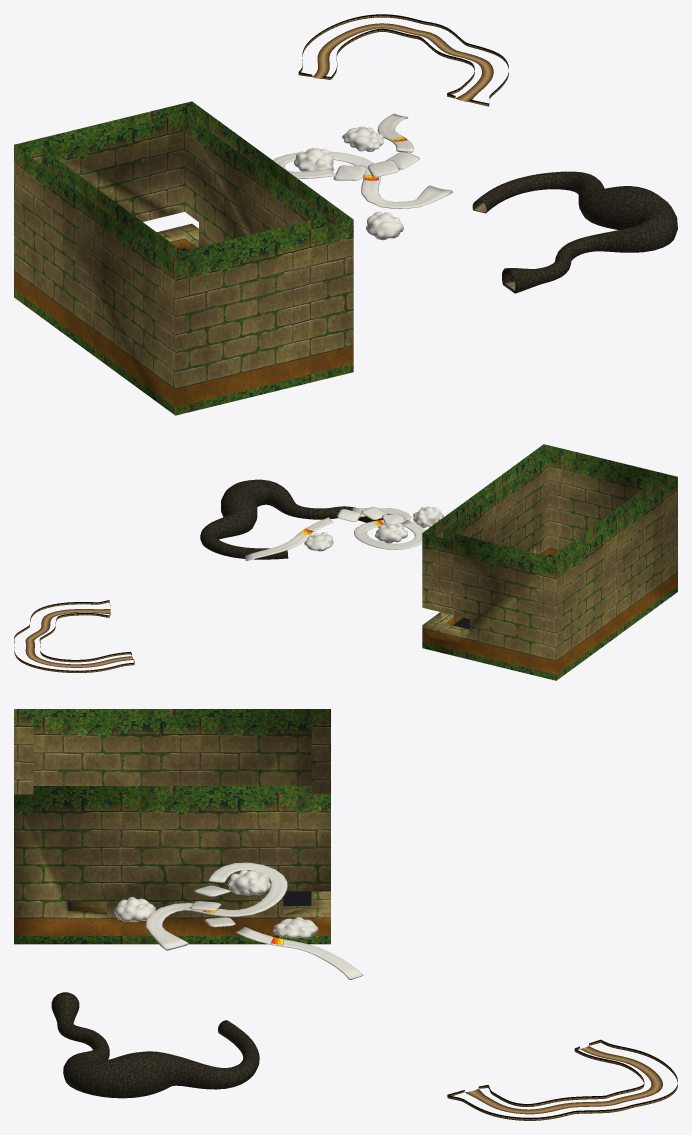
3 renders of one model, top to bottom at view 1: azimuth 30°, elevation 25°; view 2: azimuth 150°, elevation 25°; view 3: azimuth 270°, elevation 25°, orthographic. The views are drawn at different scales.
Visible parts, largest first — view 1: model-SKP--TempleWall, model-SKP--CaveWall, model-SKP--Clouds, model-SKP--ForestRoad, model-SKP--Fence; view 2: model-SKP--TempleWall, model-SKP--CaveWall, model-SKP--Clouds, model-SKP--Fence, model-SKP--ForestRoad; view 3: model-SKP--TempleWall, model-SKP--CaveWall, model-SKP--Clouds, model-SKP--Fence, model-SKP--ForestRoad.
Part boxes in pixels (left/top/right/bottom): model-SKP--TempleWall: left=14, top=101, right=353, bottom=415; model-SKP--CaveWall: left=472, top=171, right=677, bottom=293; model-SKP--Clouds: left=273, top=113, right=453, bottom=240; model-SKP--ForestRoad: left=313, top=23, right=493, bottom=101; model-SKP--Fence: left=298, top=14, right=508, bottom=106; model-SKP--TempleWall: left=422, top=444, right=677, bottom=680; model-SKP--CaveWall: left=200, top=479, right=390, bottom=559; model-SKP--Clouds: left=245, top=506, right=443, bottom=561; model-SKP--Fence: left=14, top=600, right=134, bottom=672; model-SKP--ForestRoad: left=25, top=609, right=133, bottom=667; model-SKP--TempleWall: left=14, top=709, right=330, bottom=944; model-SKP--CaveWall: left=51, top=992, right=259, bottom=1098; model-SKP--Clouds: left=114, top=862, right=363, bottom=979; model-SKP--Fence: left=447, top=1039, right=677, bottom=1120; model-SKP--ForestRoad: left=465, top=1046, right=662, bottom=1114.
Size of what is drawn, in the model's own units: 163836 by 40563 by 162894.
15 materials, 15 textured.
